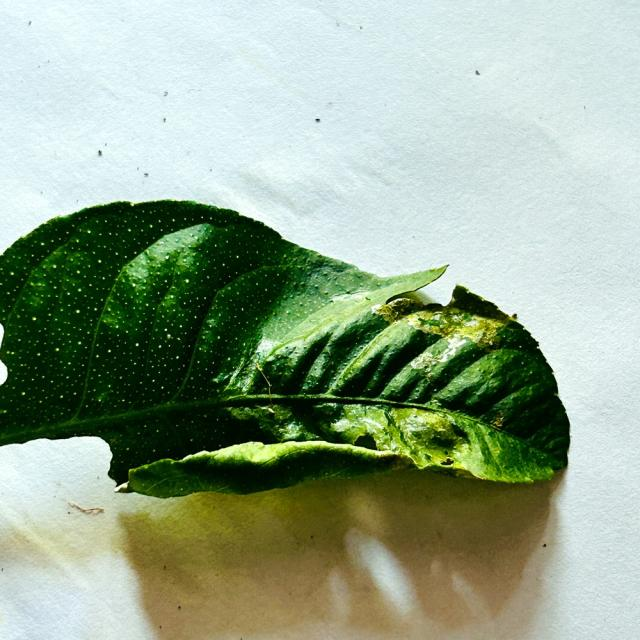Deficiency Leaf: (0, 438, 155, 519), (415, 273, 454, 306)
Lemon: (0, 200, 568, 497)
